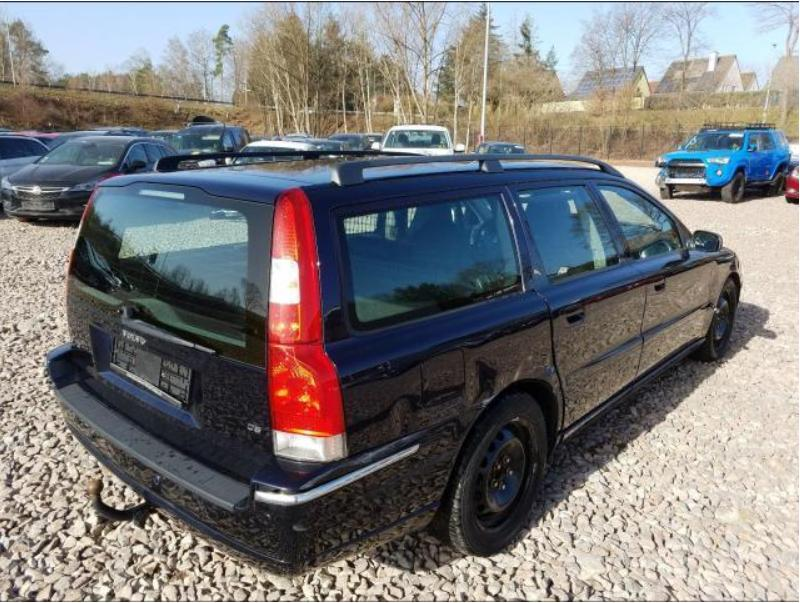Back-bumper: (46, 344, 482, 569)
Back-door: (509, 180, 647, 433)
Back-wheel: (427, 393, 550, 561)
Back-window: (335, 194, 525, 326), (500, 179, 633, 283)
Back-windshield: (67, 183, 275, 367)
Fender: (702, 248, 743, 337)
Front-door: (588, 180, 709, 381)
Front-wheel: (693, 278, 739, 361)
Front-window: (584, 179, 696, 260)
License-plate: (112, 331, 195, 411)
Mirror: (694, 232, 719, 252)
Quarter-panel: (324, 289, 562, 455)
Rocker-panel: (562, 341, 698, 445)
Roof: (101, 149, 608, 206)
Tail-light: (268, 189, 346, 463)
Trunk: (67, 291, 275, 486)
